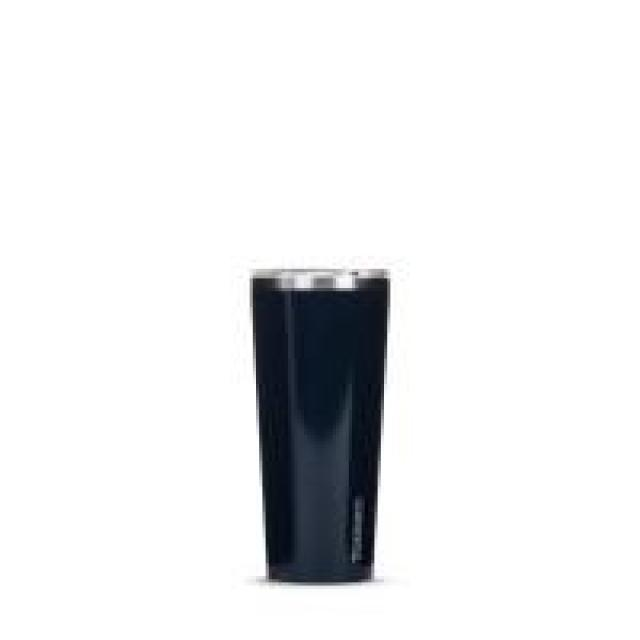bottle: (248, 266, 389, 579)
